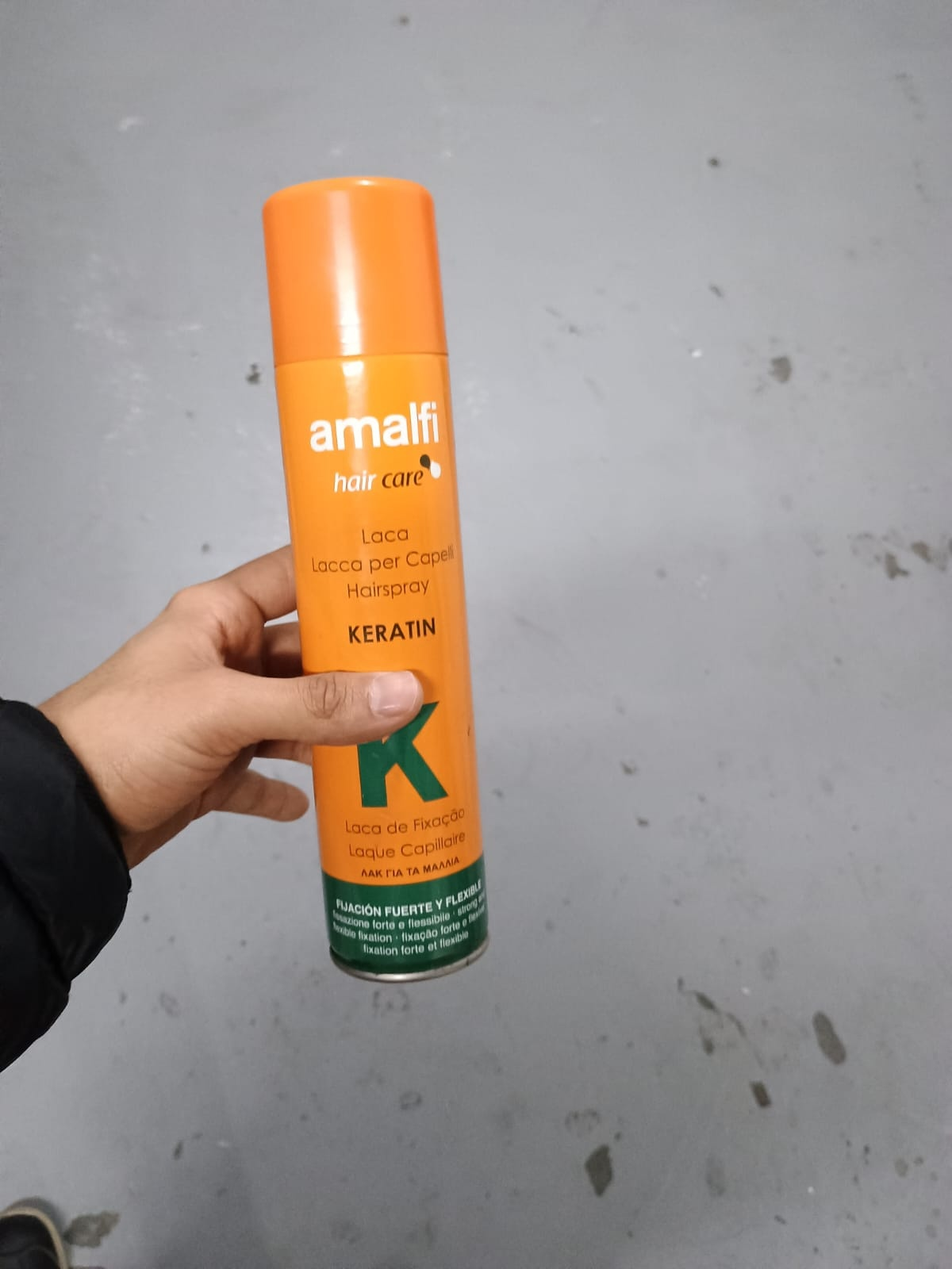Metal: (274, 356, 489, 981)
Plastico: (264, 173, 451, 352)
